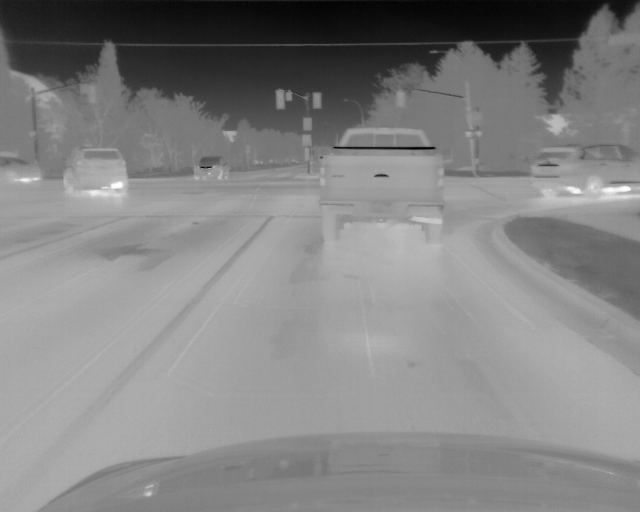car: (318, 125, 445, 244), (529, 142, 640, 199), (62, 145, 127, 194), (1, 154, 40, 186), (194, 156, 230, 182)
